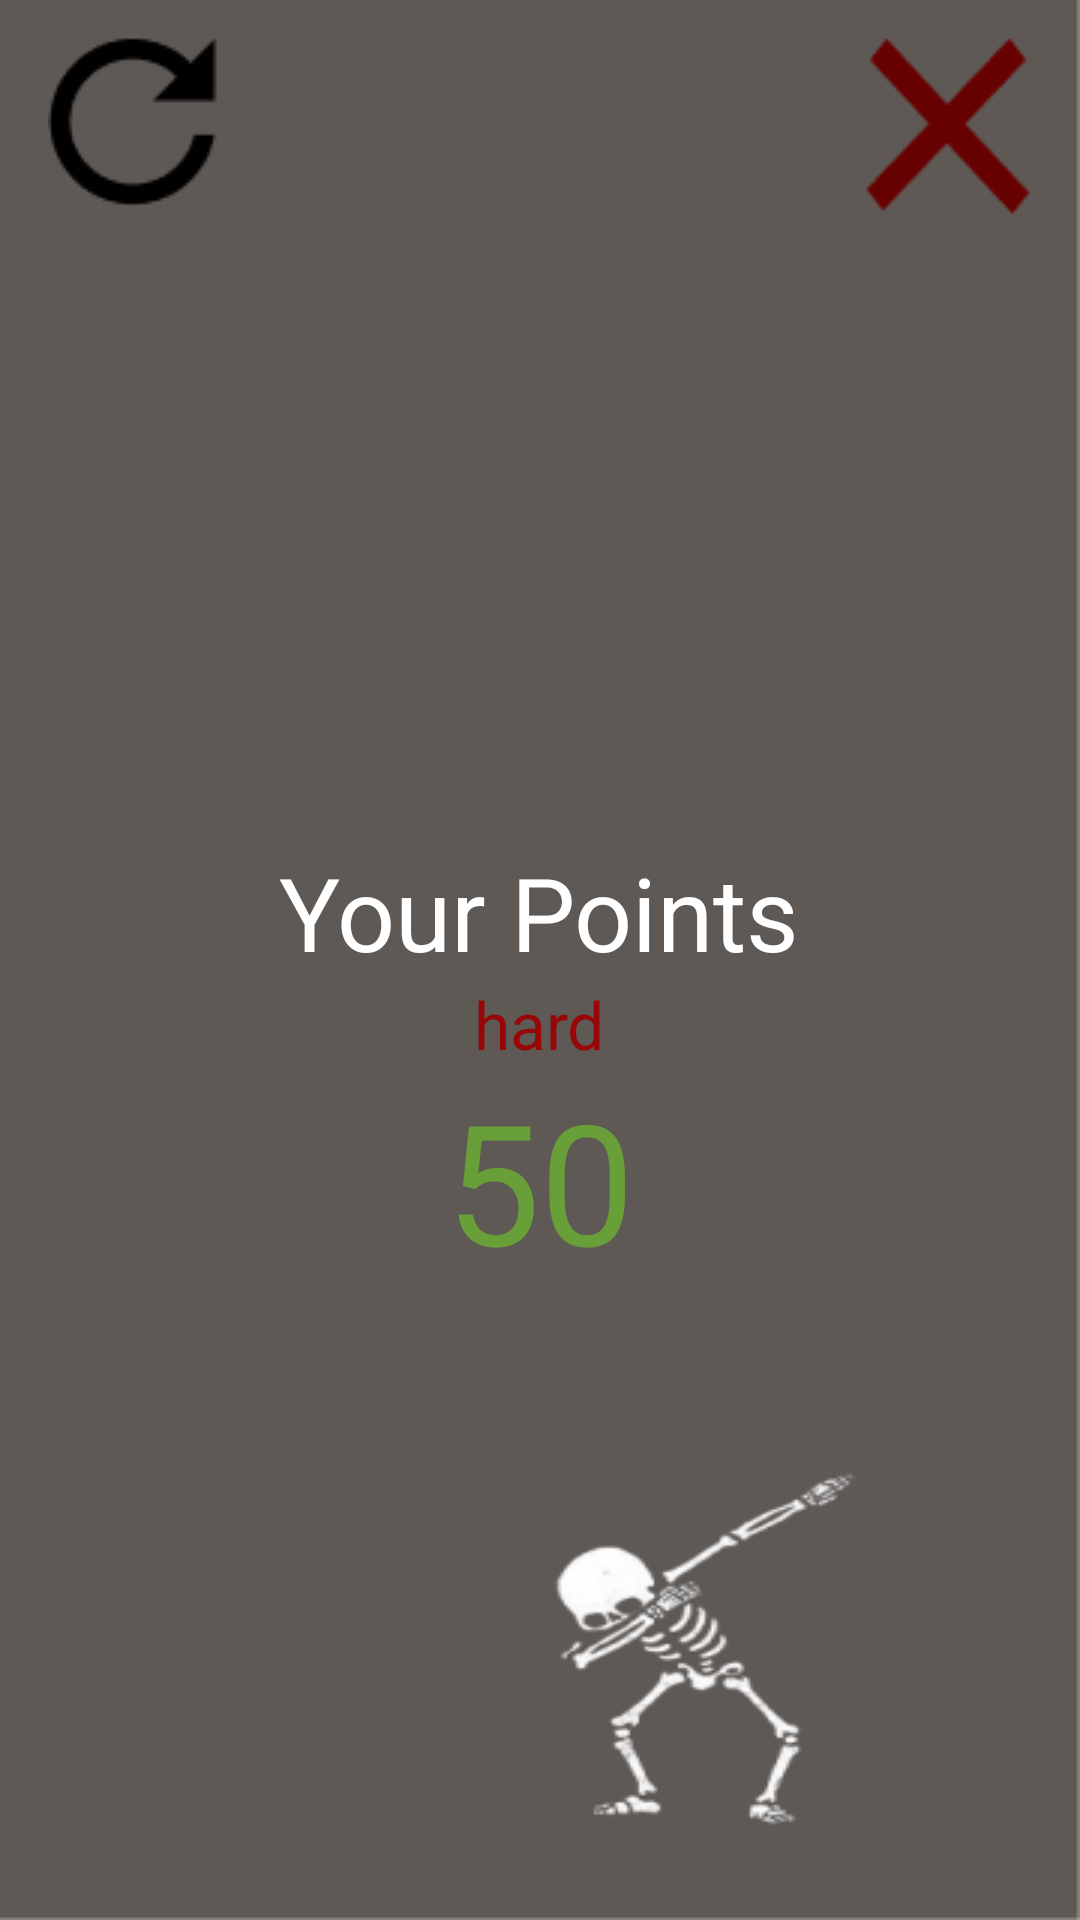

Locate icon controls on the screen. Image size 1080×1920, boxes as (x1,y1,x2,y2).
close game: (867,39,1030,214)
restart game: (48,38,216,205)
